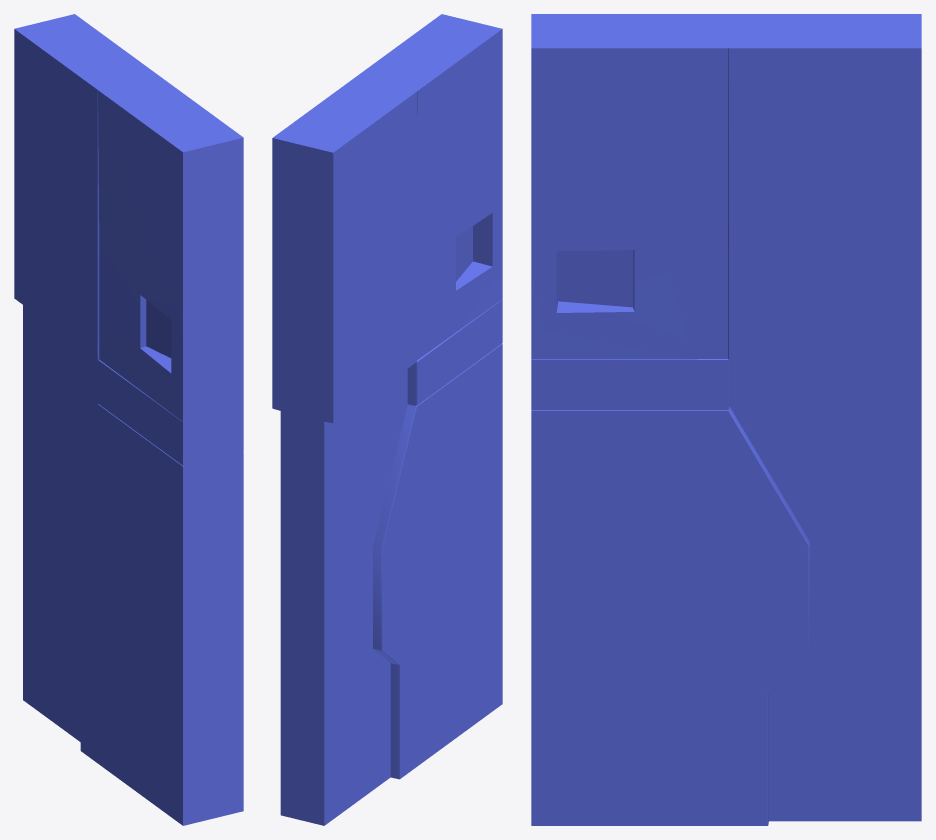
File: Mur_V4.fbx
3 renders of one model, left to right at view 1: azimuth 30°, elevation 25°; view 2: azimuth 150°, elevation 25°; view 3: azimuth 270°, elevation 25°, orthographic. The views are drawn at different scales.
Parts seen in each view (by area): view 1: Mur_V4; view 2: Mur_V4; view 3: Mur_V4.
Boxes of the visible parts, left/top/right/bottom form: Mur_V4: left=14, top=14, right=243, bottom=825; Mur_V4: left=272, top=14, right=502, bottom=825; Mur_V4: left=531, top=14, right=921, bottom=825.
Bounding box in the file's own units: 0.2136 × 2.2 × 1.
